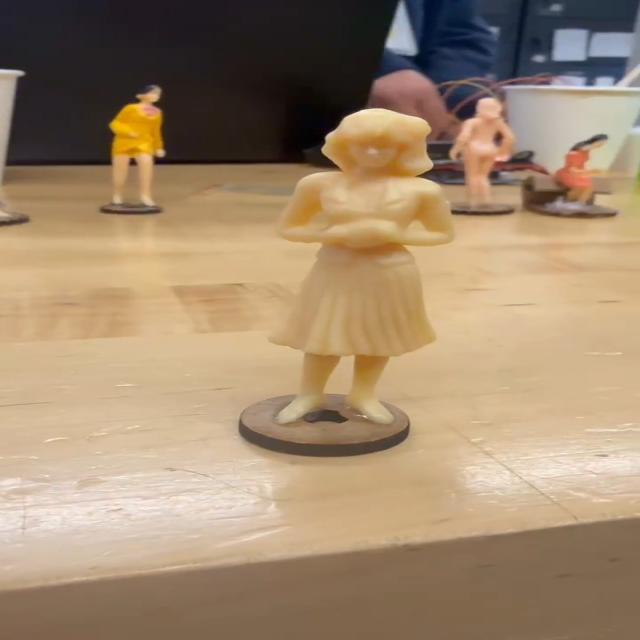Unauthorized: (238, 97, 460, 430)
